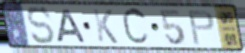5: (158, 8, 187, 47)
A: (56, 8, 89, 44)
C: (120, 6, 152, 48)
K: (91, 8, 120, 45)
P: (186, 9, 217, 47)
S: (26, 5, 57, 46)
